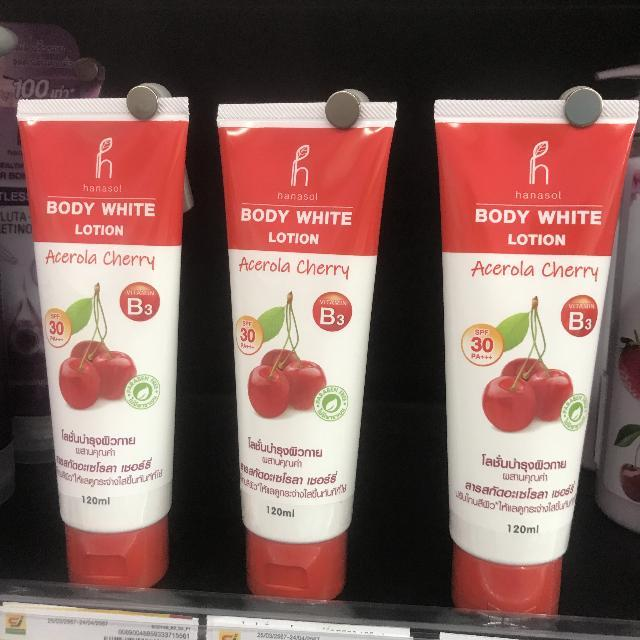Squeeze Tube: (431, 71, 640, 616), (15, 74, 207, 604), (211, 76, 389, 610)
